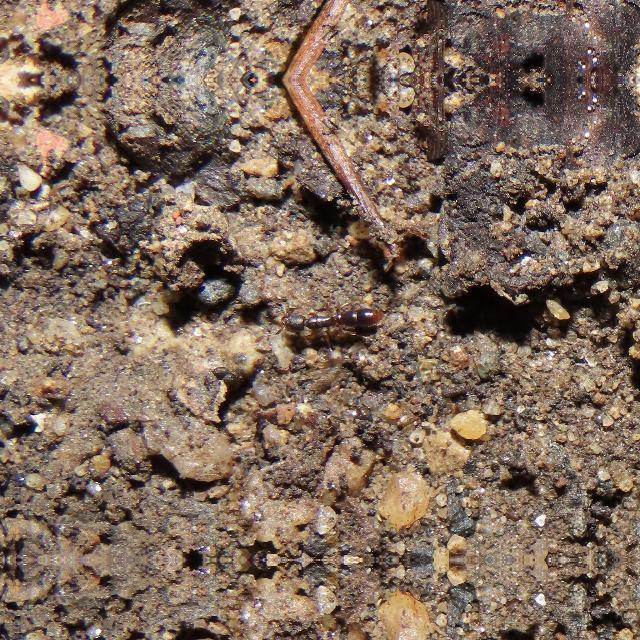Ponera: (275, 294, 389, 336)
